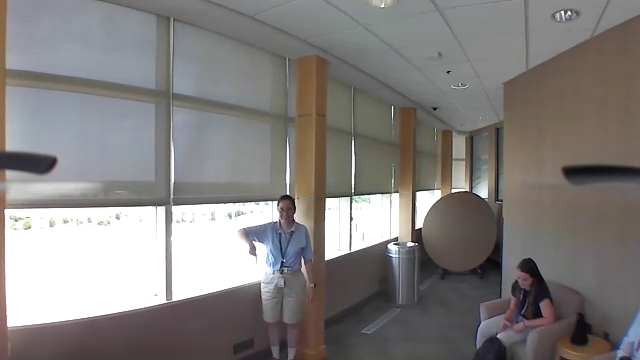down: (242, 239, 264, 267)
